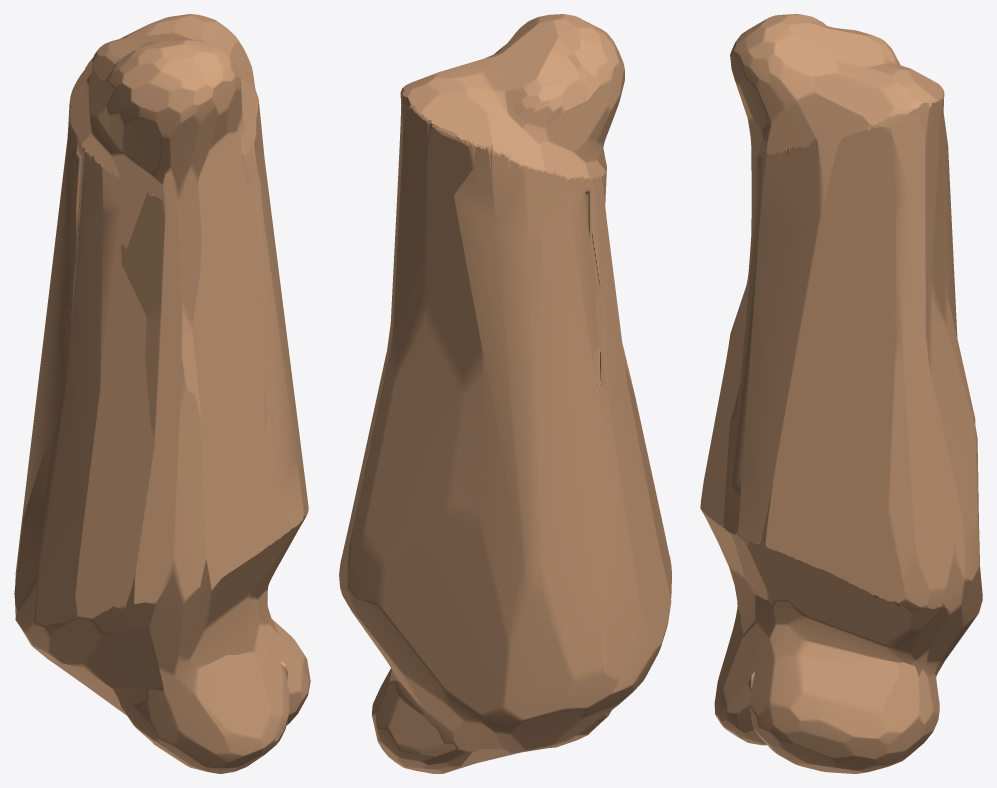
3 renders of one model, left to right at view 1: azimuth 30°, elevation 25°; view 2: azimuth 150°, elevation 25°; view 3: azimuth 270°, elevation 25°, orthographic. The views are drawn at different scales.
Visible parts, largest first — view 1: Mesh_12_LOD0; view 2: Mesh_12_LOD0; view 3: Mesh_12_LOD0.
Part boxes in pixels (x1=…): Mesh_12_LOD0: x1=14, y1=14, x2=310, y2=773; Mesh_12_LOD0: x1=339, y1=14, x2=671, y2=773; Mesh_12_LOD0: x1=700, y1=14, x2=982, y2=773.
Size of what is drawn, in the model's own units: 371 by 972 by 352.
